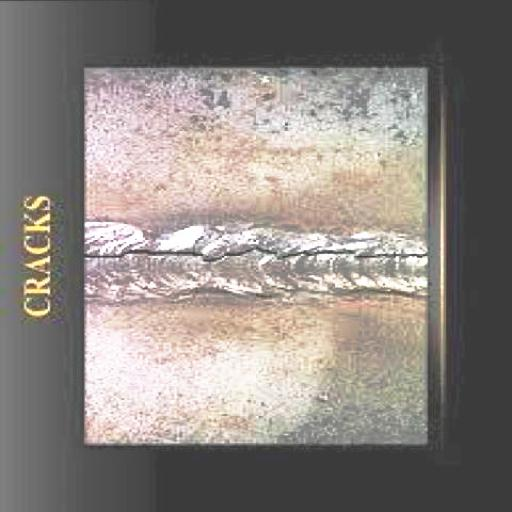crack: (84, 234, 427, 277)
